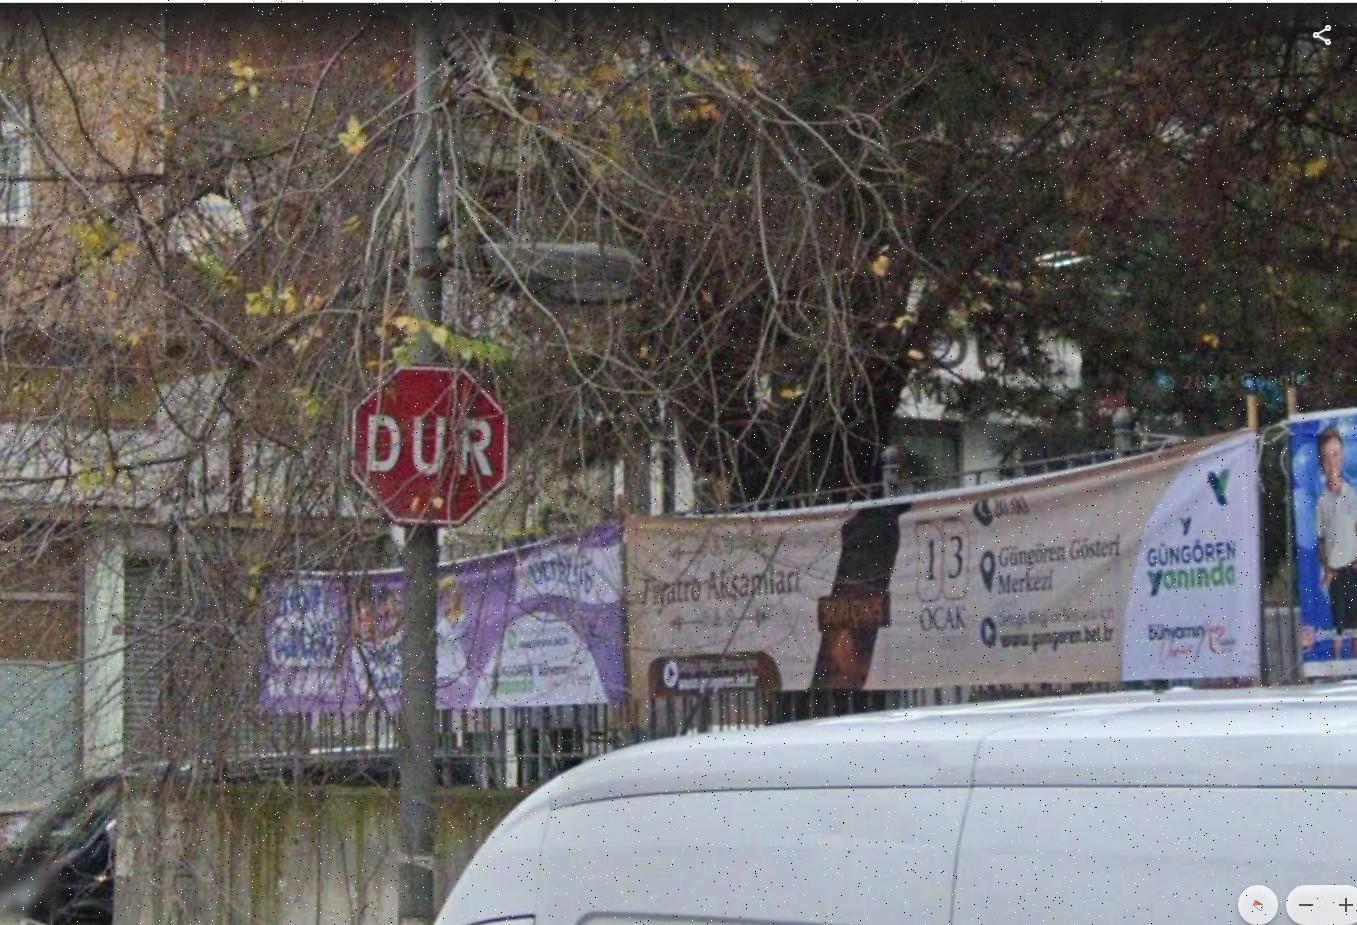stop: (350, 364, 508, 518)
